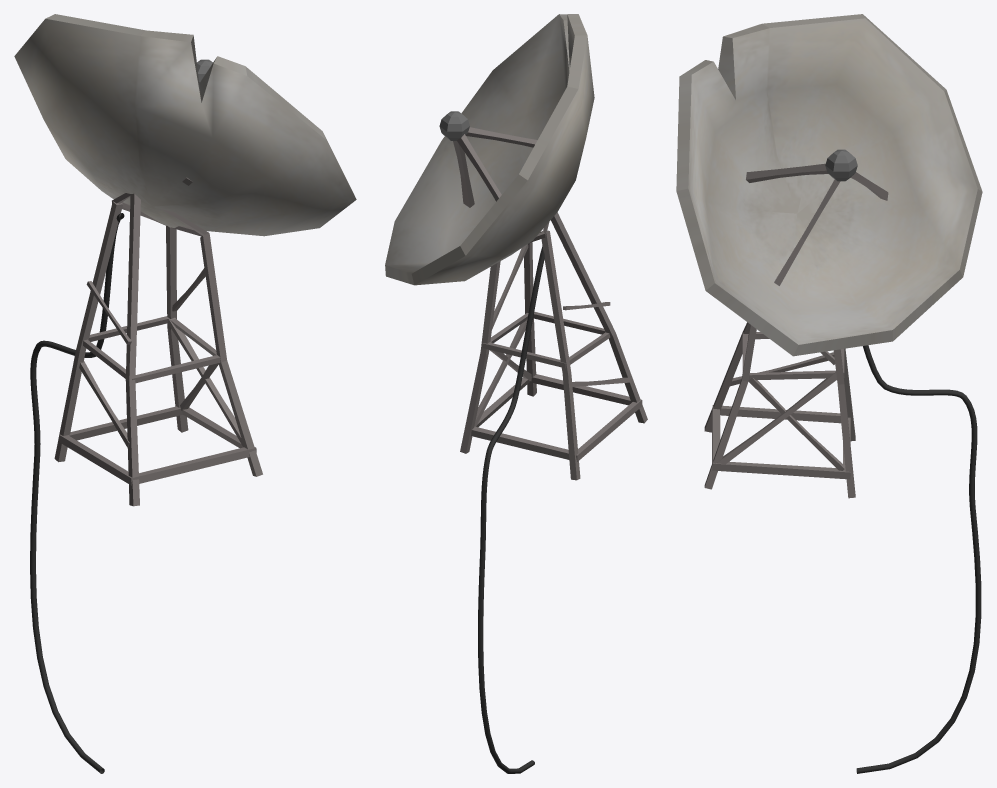
The model's file is Satellite.fbx.
The picture shows the model from 3 angles, left to right: view 1: azimuth 30°, elevation 25°; view 2: azimuth 150°, elevation 25°; view 3: azimuth 270°, elevation 25°; orthographic projection. The views are drawn at different scales.
Visible parts, largest first — view 1: Cube.008; view 2: Cube.008; view 3: Cube.008.
Part boxes in pixels (<box>): Cube.008: <box>14,14,356,773</box>; Cube.008: <box>385,14,647,773</box>; Cube.008: <box>676,14,982,773</box>.
Bounding box in the file's own units: 24.86 × 77.81 × 28.88.
